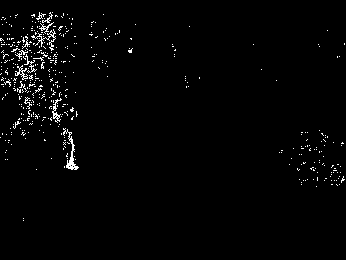person: (49, 89, 90, 172)
